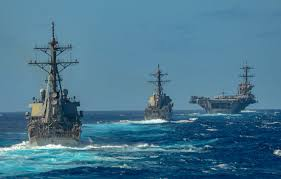ship: (22, 18, 83, 152), (188, 61, 261, 115), (144, 60, 173, 124)
